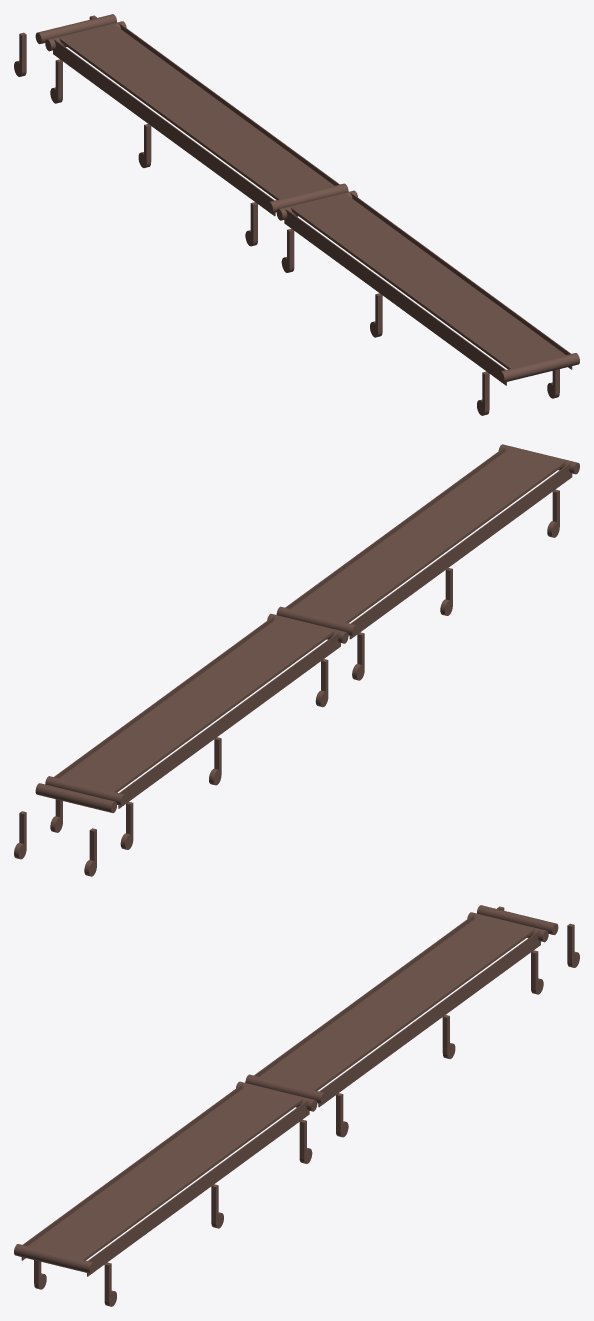
Rendered from GCC-AAV-13220-30.nwd(77).fbx.
3 views of the same model, one above another, from view 1: azimuth 30°, elevation 25°; view 2: azimuth 150°, elevation 25°; view 3: azimuth 330°, elevation 25° (orthographic).
Visible parts, largest first — view 1: BOX 9 of SUBEQUIPMENT 44 of EQUIPMENT /726-U-601, BOX 9 of SUBEQUIPMENT 45 of EQUIPMENT /726-U-601, BOX 1 of SUBEQUIPMENT 45 of EQUIPMENT /726-U-601, BOX 1 of SUBEQUIPMENT 44 of EQUIPMENT /726-U-601, BOX 2 of SUBEQUIPMENT 45 of EQUIPMENT /726-U-601, BOX 2 of SUBEQUIPMENT 44 of EQUIPMENT /726-U-601, CYLINDER 2 of SUBEQUIPMENT 45 of EQUIPMENT /726-U-601, CYLINDER 2 of SUBEQUIPMENT /726-U-601-X-015A, CYLINDER 2 of SUBEQUIPMENT 44 of EQUIPMENT /726-U-601; view 2: BOX 9 of SUBEQUIPMENT 44 of EQUIPMENT /726-U-601, BOX 9 of SUBEQUIPMENT 45 of EQUIPMENT /726-U-601, BOX 1 of SUBEQUIPMENT 44 of EQUIPMENT /726-U-601, BOX 1 of SUBEQUIPMENT 45 of EQUIPMENT /726-U-601, BOX 2 of SUBEQUIPMENT 44 of EQUIPMENT /726-U-601, BOX 2 of SUBEQUIPMENT 45 of EQUIPMENT /726-U-601, CYLINDER 2 of SUBEQUIPMENT /726-U-601-X-015A, CYLINDER 1 of SUBEQUIPMENT 44 of EQUIPMENT /726-U-601, CYLINDER 1 of SUBEQUIPMENT 45 of EQUIPMENT /726-U-601; view 3: BOX 9 of SUBEQUIPMENT 44 of EQUIPMENT /726-U-601, BOX 9 of SUBEQUIPMENT 45 of EQUIPMENT /726-U-601, BOX 2 of SUBEQUIPMENT 45 of EQUIPMENT /726-U-601, BOX 2 of SUBEQUIPMENT 44 of EQUIPMENT /726-U-601, BOX 1 of SUBEQUIPMENT 45 of EQUIPMENT /726-U-601, BOX 1 of SUBEQUIPMENT 44 of EQUIPMENT /726-U-601, CYLINDER 2 of SUBEQUIPMENT 45 of EQUIPMENT /726-U-601, CYLINDER 2 of SUBEQUIPMENT /726-U-601-X-015A, CYLINDER 2 of SUBEQUIPMENT 44 of EQUIPMENT /726-U-601.
Part boxes in pixels (x1,y1,x2,y2): BOX 9 of SUBEQUIPMENT 44 of EQUIPMENT /726-U-601: [58, 24, 334, 199]; BOX 9 of SUBEQUIPMENT 45 of EQUIPMENT /726-U-601: [290, 193, 566, 369]; BOX 1 of SUBEQUIPMENT 45 of EQUIPMENT /726-U-601: [284, 208, 506, 385]; BOX 1 of SUBEQUIPMENT 44 of EQUIPMENT /726-U-601: [53, 38, 275, 216]; BOX 2 of SUBEQUIPMENT 45 of EQUIPMENT /726-U-601: [350, 192, 572, 369]; BOX 2 of SUBEQUIPMENT 44 of EQUIPMENT /726-U-601: [118, 23, 340, 185]; CYLINDER 2 of SUBEQUIPMENT 45 of EQUIPMENT /726-U-601: [498, 353, 579, 382]; CYLINDER 2 of SUBEQUIPMENT /726-U-601-X-015A: [35, 14, 116, 44]; CYLINDER 2 of SUBEQUIPMENT 44 of EQUIPMENT /726-U-601: [267, 183, 348, 213]; BOX 9 of SUBEQUIPMENT 44 of EQUIPMENT /726-U-601: [58, 616, 335, 792]; BOX 9 of SUBEQUIPMENT 45 of EQUIPMENT /726-U-601: [290, 447, 566, 622]; BOX 1 of SUBEQUIPMENT 44 of EQUIPMENT /726-U-601: [118, 631, 340, 808]; BOX 1 of SUBEQUIPMENT 45 of EQUIPMENT /726-U-601: [349, 462, 572, 639]; BOX 2 of SUBEQUIPMENT 44 of EQUIPMENT /726-U-601: [53, 615, 275, 778]; BOX 2 of SUBEQUIPMENT 45 of EQUIPMENT /726-U-601: [284, 446, 506, 608]; CYLINDER 2 of SUBEQUIPMENT /726-U-601-X-015A: [35, 783, 116, 812]; CYLINDER 1 of SUBEQUIPMENT 44 of EQUIPMENT /726-U-601: [45, 776, 126, 806]; CYLINDER 1 of SUBEQUIPMENT 45 of EQUIPMENT /726-U-601: [276, 606, 358, 636]; BOX 9 of SUBEQUIPMENT 44 of EQUIPMENT /726-U-601: [259, 915, 535, 1090]; BOX 9 of SUBEQUIPMENT 45 of EQUIPMENT /726-U-601: [27, 1084, 303, 1260]; BOX 2 of SUBEQUIPMENT 45 of EQUIPMENT /726-U-601: [87, 1099, 309, 1276]; BOX 2 of SUBEQUIPMENT 44 of EQUIPMENT /726-U-601: [318, 929, 540, 1107]; BOX 1 of SUBEQUIPMENT 45 of EQUIPMENT /726-U-601: [21, 1083, 243, 1260]; BOX 1 of SUBEQUIPMENT 44 of EQUIPMENT /726-U-601: [253, 914, 475, 1076]; CYLINDER 2 of SUBEQUIPMENT 45 of EQUIPMENT /726-U-601: [14, 1244, 95, 1273]; CYLINDER 2 of SUBEQUIPMENT /726-U-601-X-015A: [477, 905, 558, 935]; CYLINDER 2 of SUBEQUIPMENT 44 of EQUIPMENT /726-U-601: [245, 1074, 326, 1104].
Bounding box in the file's own units: 32.12 × 23.94 × 361.
